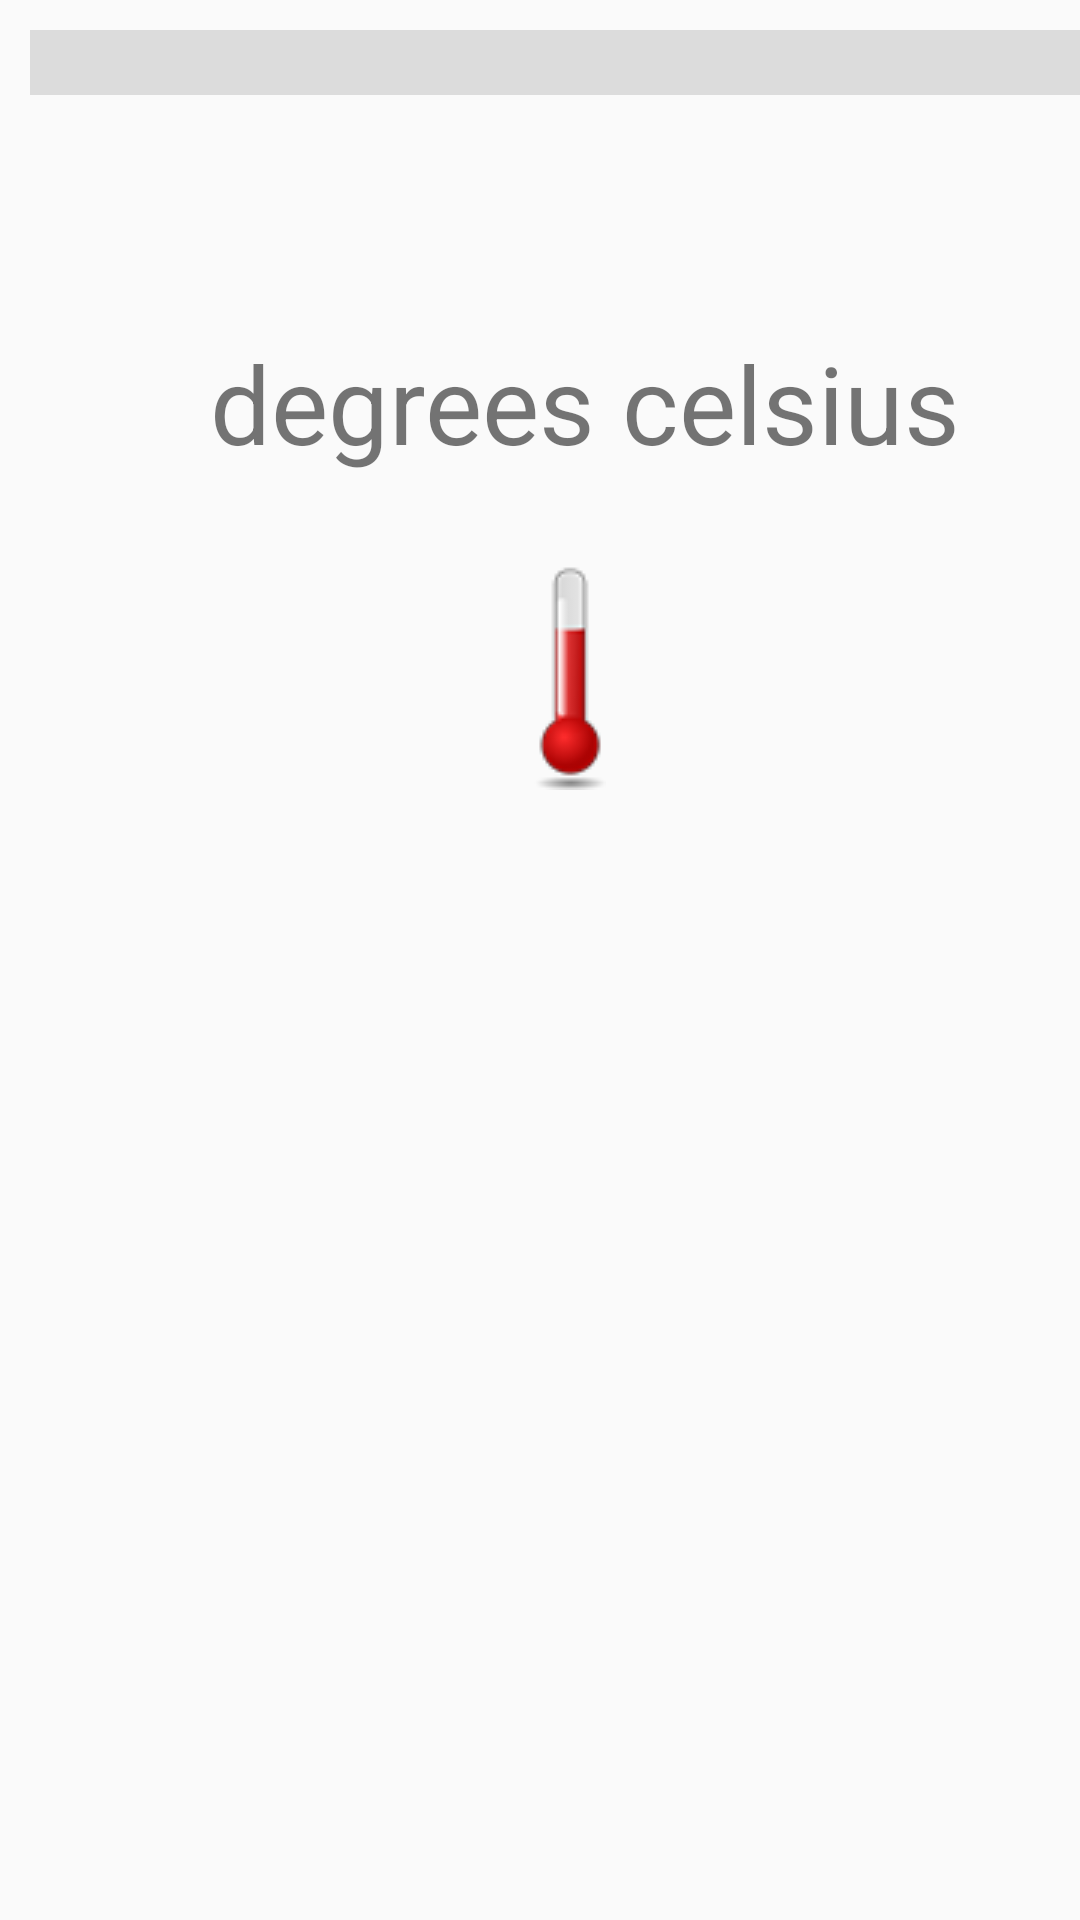

Point at icon controls on the screen. Image size 1080w x 1920h, points as (x,y).
thermometer: (570,679)
